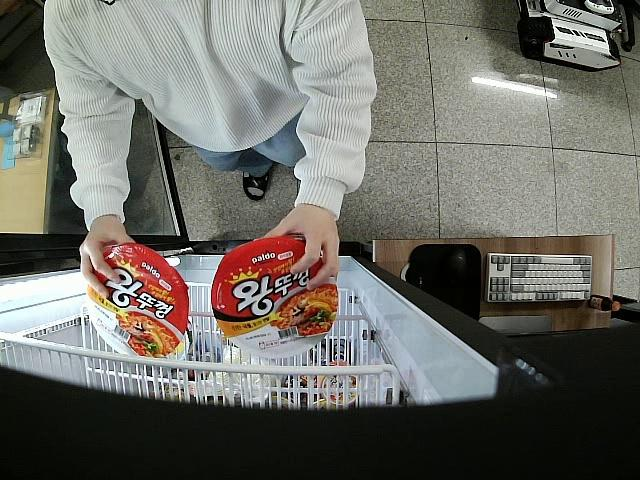00_hand: (253, 201, 340, 289), (78, 221, 137, 300)
10_wangTtukkeong: (211, 237, 339, 357), (85, 243, 188, 355)
